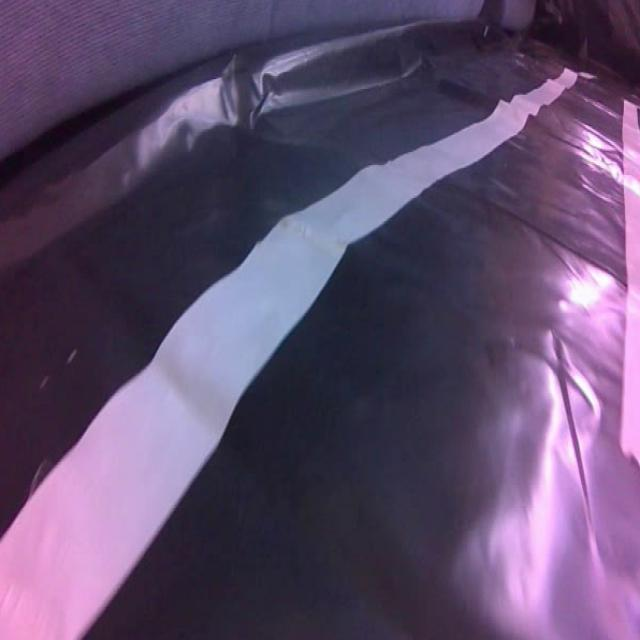LineaCarril: (0, 69, 577, 640), (620, 101, 640, 466)
